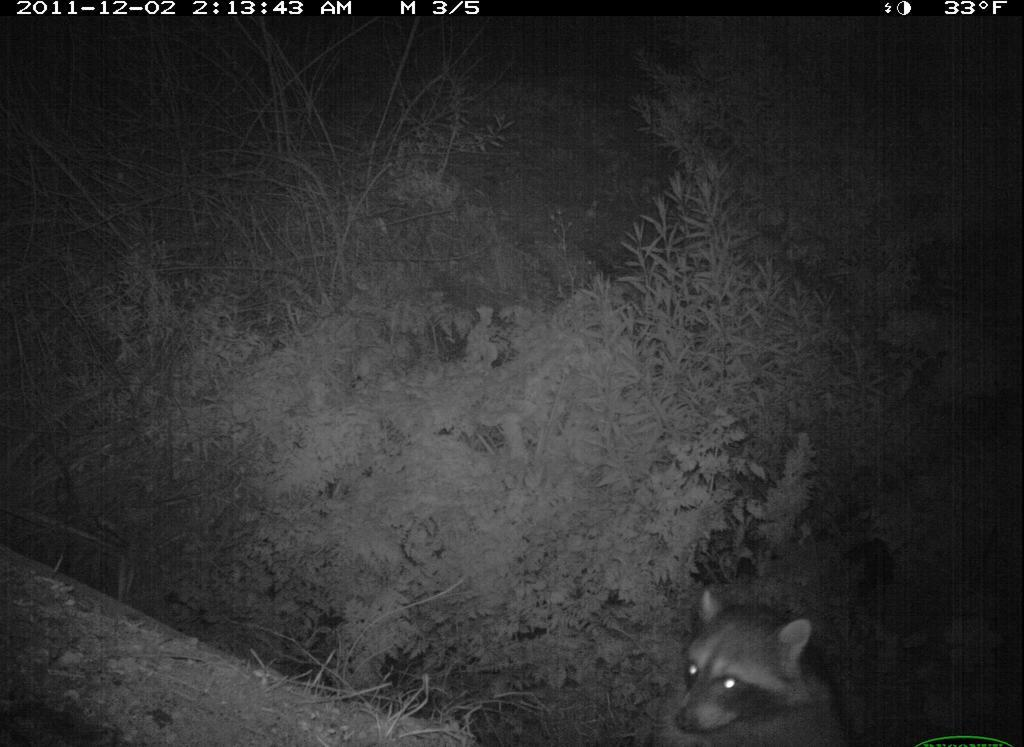raccoon: (643, 573, 867, 747)
